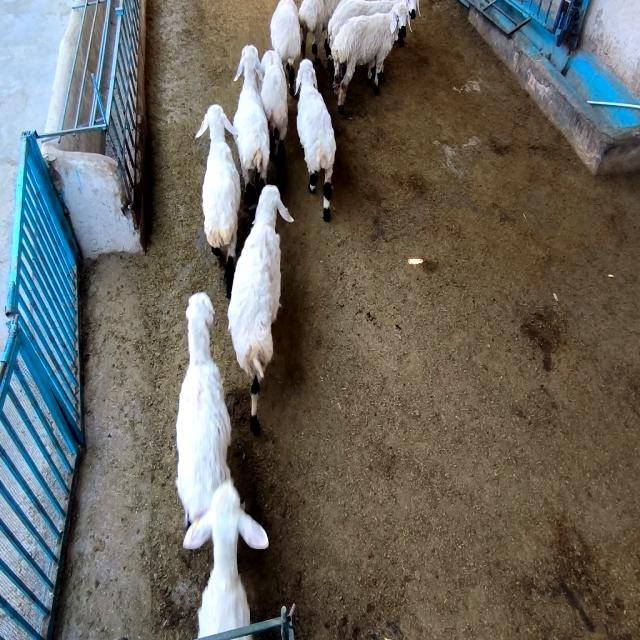sheep: (228, 185, 294, 431), (184, 480, 269, 636), (176, 292, 231, 522), (196, 105, 241, 298), (331, 3, 410, 112), (232, 45, 270, 216), (296, 58, 336, 219), (261, 50, 288, 186), (328, 0, 402, 48), (270, 0, 301, 94), (299, 0, 338, 64)
